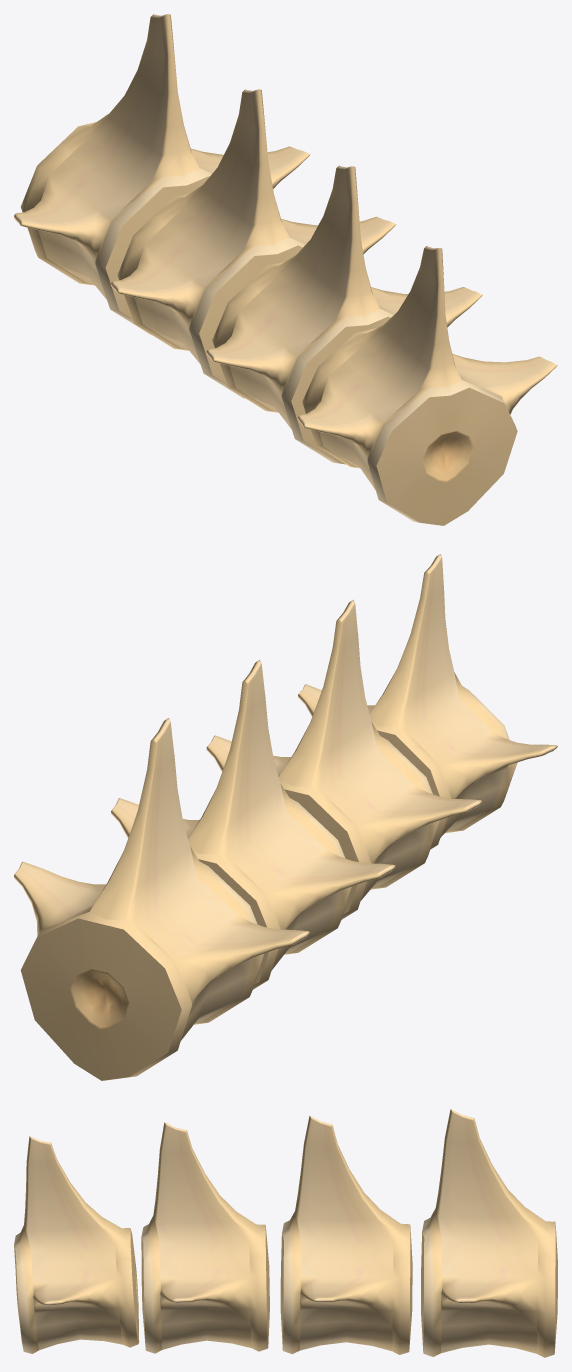
File: SpineChunk2.fbx
The picture shows the model from 3 angles, top to bottom: view 1: azimuth 30°, elevation 25°; view 2: azimuth 150°, elevation 25°; view 3: azimuth 270°, elevation 25°; orthographic projection. The views are drawn at different scales.
Parts seen in each view (by area): view 1: polySurface26; view 2: polySurface26; view 3: polySurface26.
Part boxes in pixels (bbox=[...]): polySurface26: bbox=[14, 14, 557, 525]; polySurface26: bbox=[14, 554, 557, 1080]; polySurface26: bbox=[14, 1109, 557, 1357].
Bounding box in the file's own units: 2.82 × 2.97 × 5.94.
